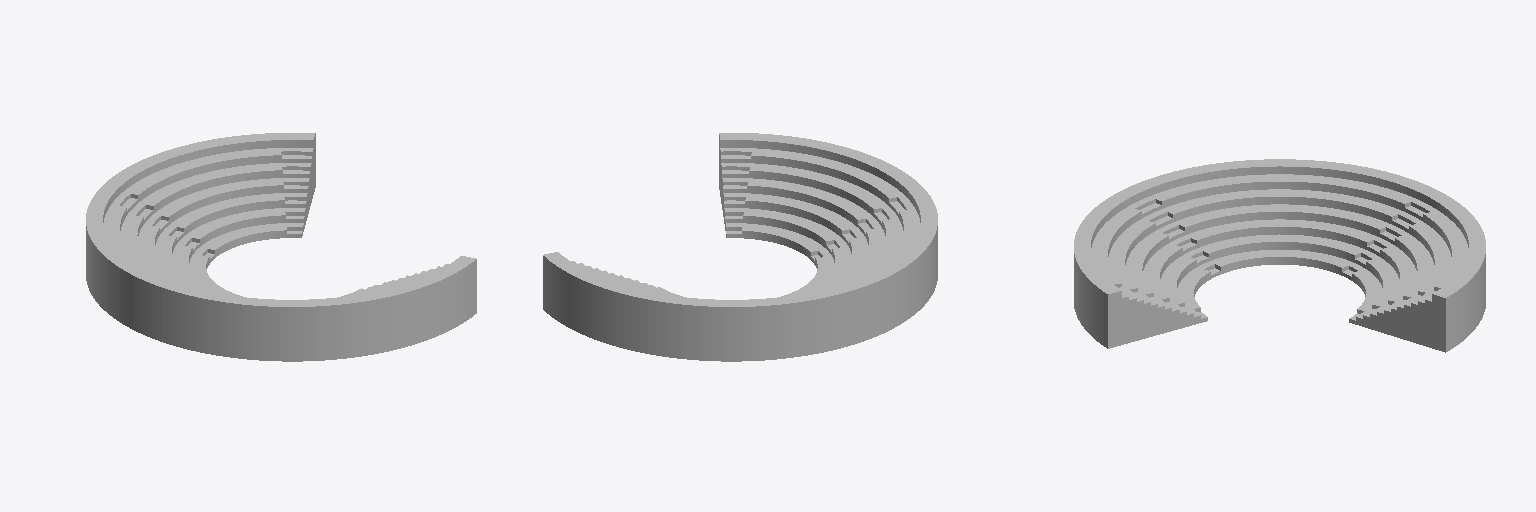
The model's file is Amphitheatre8m.obj.
3 renders of one model, left to right at view 1: azimuth 30°, elevation 25°; view 2: azimuth 150°, elevation 25°; view 3: azimuth 270°, elevation 25°, orthographic.
Bounding box in the file's own units: 12.9 × 2.36 × 16.18.